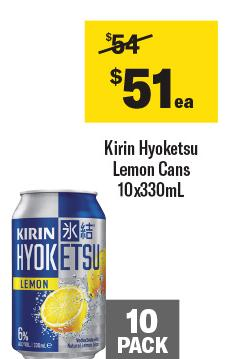description_block: (100, 133, 206, 205)
price_main: (97, 57, 212, 125)
product_image_block: (11, 181, 179, 359)
